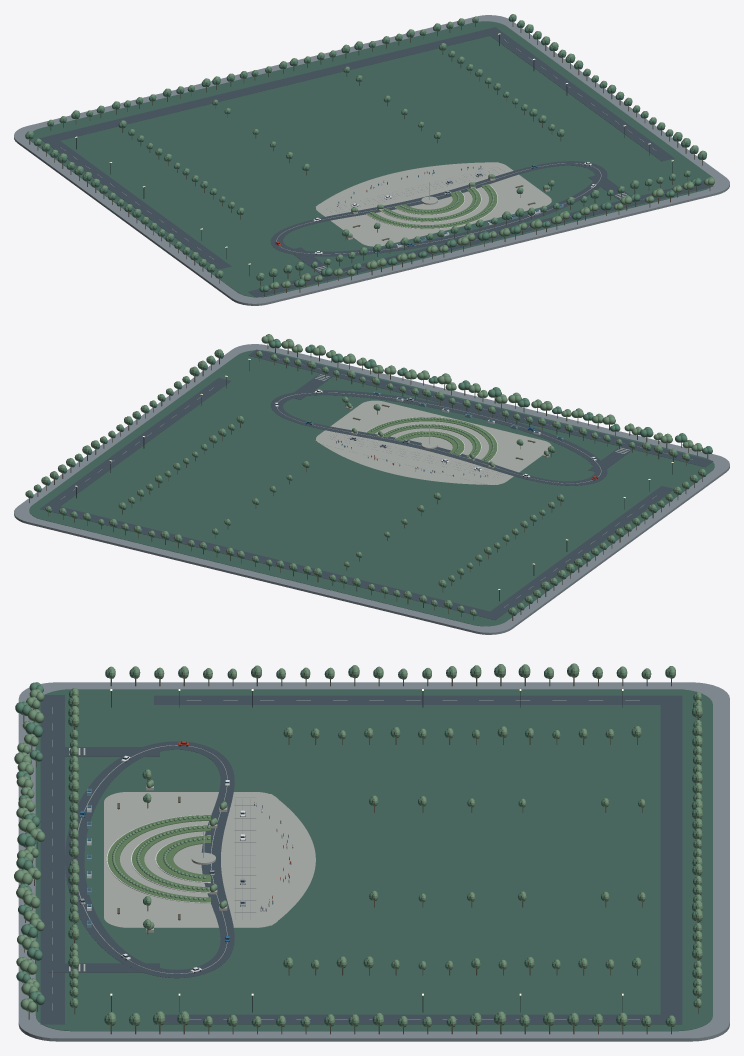
File: environment.glb
The picture shows the model from 3 angles, top to bottom: view 1: azimuth 30°, elevation 25°; view 2: azimuth 150°, elevation 25°; view 3: azimuth 270°, elevation 25°; orthographic projection. The views are drawn at different scales.
Parts seen in each view (by area): view 1: environment_grass, environment_road, environment_pavement, environment_stone, environment_leaf, environment_leafLight, CurrentRefine_environment_leafLight, environment_grassLight, EntranceContinuousPaving, environment_wood, CurrentRefine_environment_leaf, environment_leafLight_detail (+2 smaller); view 2: environment_grass, environment_road, environment_pavement, environment_stone, environment_leafLight, environment_leaf, CurrentRefine_environment_leafLight, environment_grassLight, EntranceContinuousPaving, CurrentRefine_environment_leaf, environment_wood, environment_leafLight_detail (+1 smaller); view 3: environment_grass, environment_road, environment_pavement, environment_stone, environment_leafLight, CurrentRefine_environment_leafLight, environment_leaf, environment_grassLight, EntranceContinuousPaving, CurrentRefine_environment_leaf, environment_leafLight_detail, environment_wood (+3 smaller).
Part boxes in pixels (x1,y1,x2,y2): environment_grass: (30, 21, 713, 297); environment_road: (40, 27, 713, 297); environment_pavement: (14, 15, 729, 305); environment_stone: (316, 162, 551, 246); environment_leaf: (25, 16, 706, 280); environment_leafLight: (27, 14, 706, 280); CurrentRefine_environment_leafLight: (269, 174, 714, 289); environment_grassLight: (367, 184, 497, 228); EntranceContinuousPaving: (316, 162, 498, 206); environment_wood: (29, 22, 702, 285); CurrentRefine_environment_leaf: (259, 177, 701, 292); environment_leafLight_detail: (369, 185, 494, 227); environment_grass: (29, 350, 714, 626); environment_road: (40, 349, 713, 619); environment_pavement: (14, 344, 729, 634); environment_stone: (316, 400, 551, 484); environment_leafLight: (25, 349, 705, 615); environment_leaf: (29, 352, 706, 615); CurrentRefine_environment_leafLight: (261, 334, 702, 466); environment_grassLight: (366, 417, 497, 461); EntranceContinuousPaving: (315, 440, 498, 484); CurrentRefine_environment_leaf: (269, 339, 712, 454); environment_wood: (29, 358, 702, 620); environment_leafLight_detail: (371, 417, 494, 460); environment_grass: (35, 689, 712, 1031); environment_road: (40, 695, 682, 1024); environment_pavement: (18, 682, 729, 1041); environment_stone: (104, 792, 279, 927); environment_leafLight: (71, 663, 702, 1027); CurrentRefine_environment_leafLight: (14, 689, 227, 1012); environment_leaf: (68, 666, 696, 1026); environment_grassLight: (107, 815, 210, 902); EntranceContinuousPaving: (270, 794, 315, 925); CurrentRefine_environment_leaf: (15, 682, 45, 1005); environment_leafLight_detail: (112, 815, 210, 900); environment_wood: (74, 677, 698, 1034).
Bounding box in the file's own units: 346 × 14.55 × 294.
